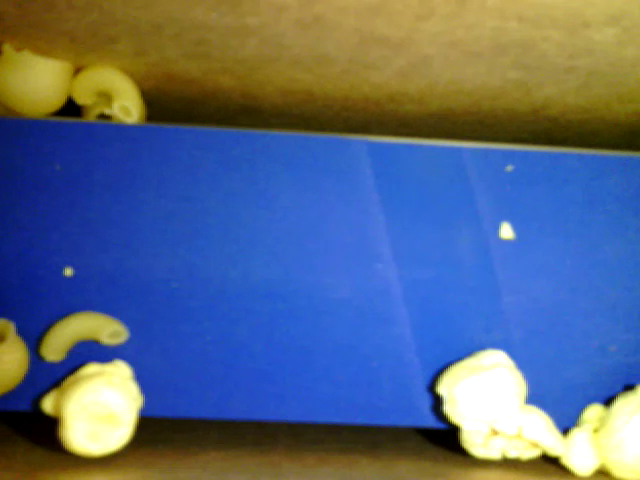elbow: (39, 311, 128, 362), (69, 63, 142, 121)
shell: (1, 44, 72, 115), (1, 319, 28, 392), (84, 94, 144, 123)
